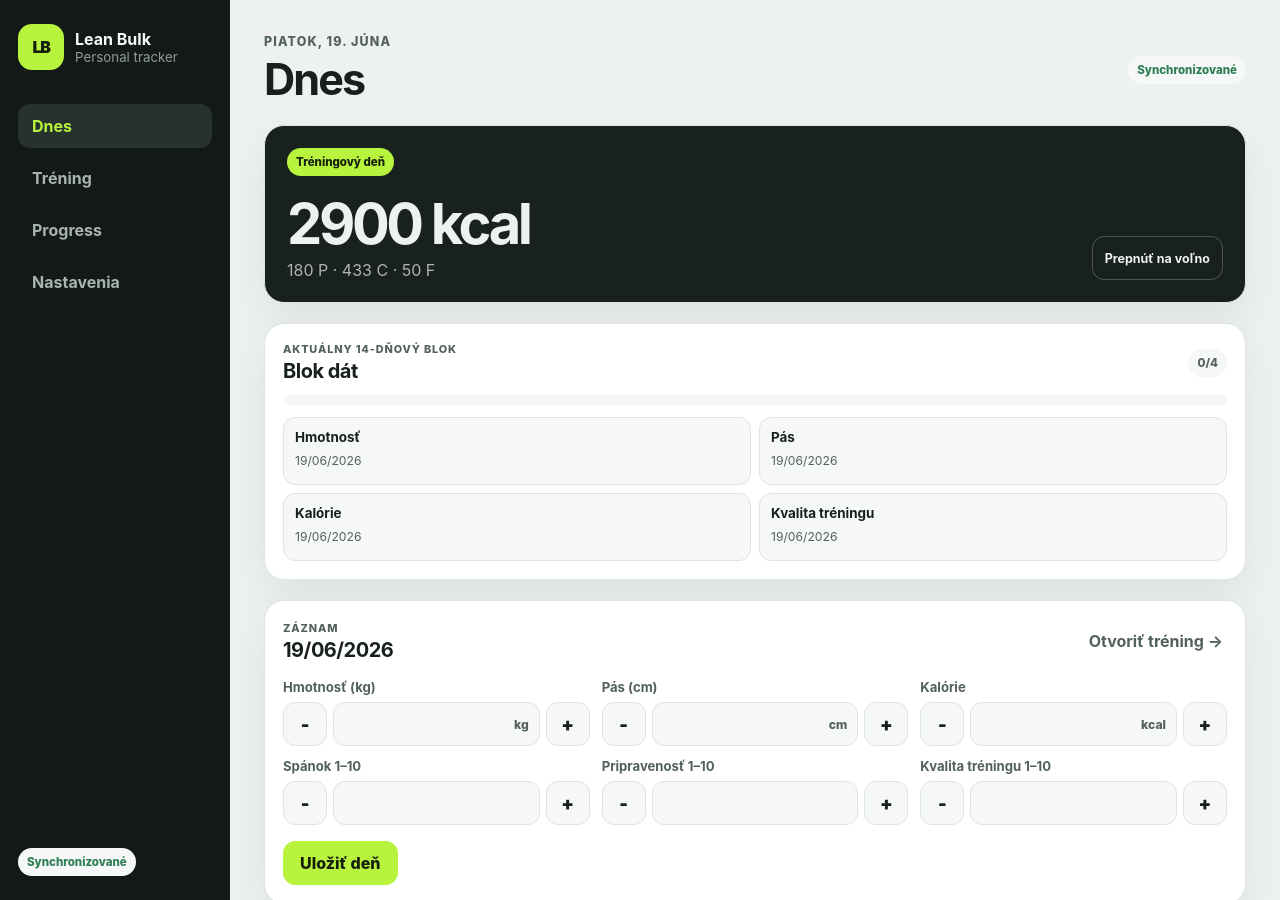
Test case: App demo mode › includes exercises from a training day category in the training screen
The image size is (1280, 900).
Click the button "Tréning" at [115, 178], box [18, 156, 212, 200]
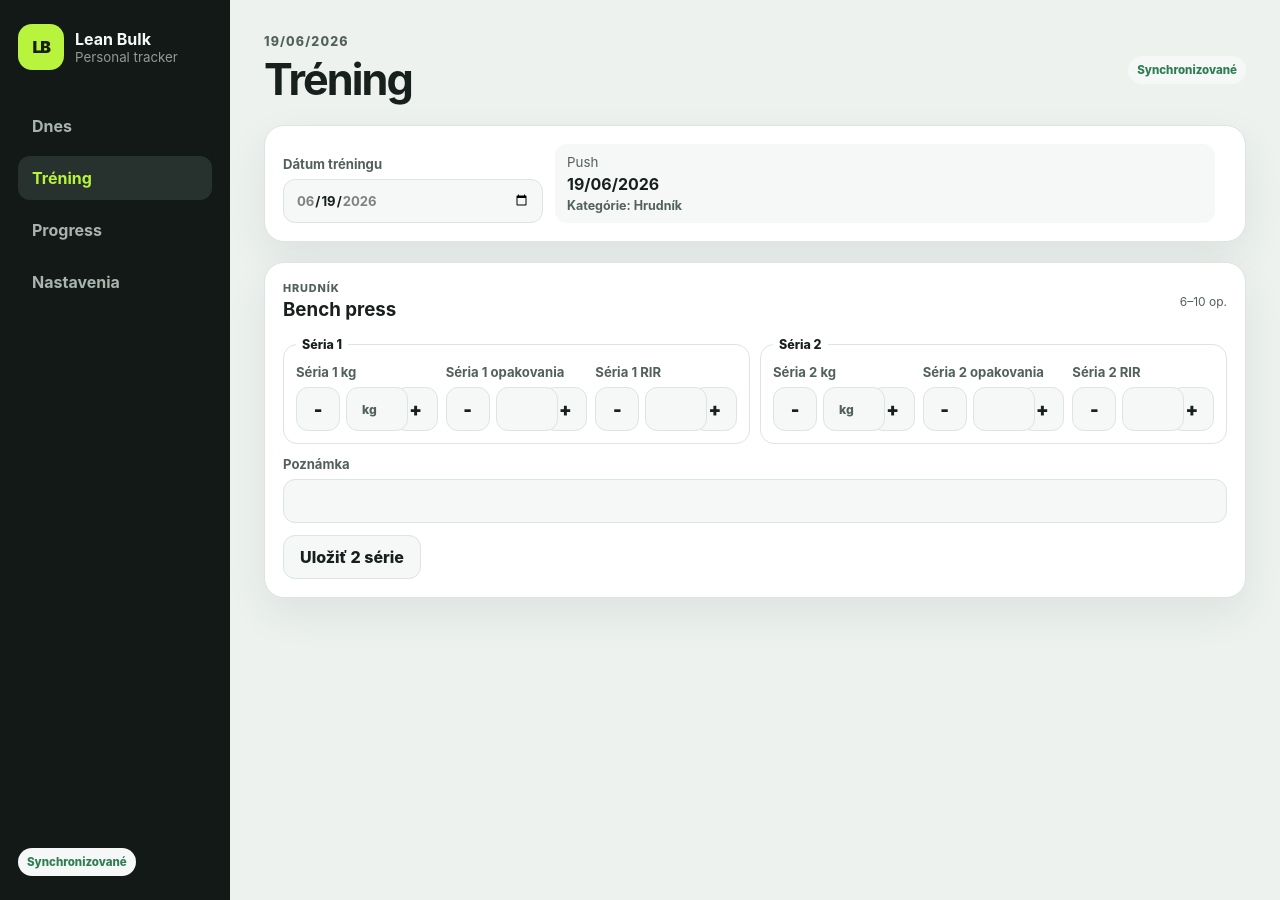
Expected: the heading "Bench press" is shown, [283, 298, 396, 321]
